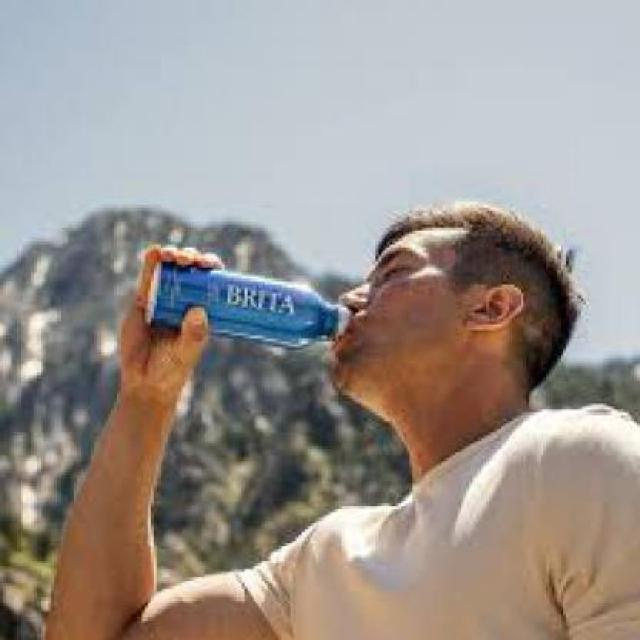Drinking: (148, 236, 378, 367)
